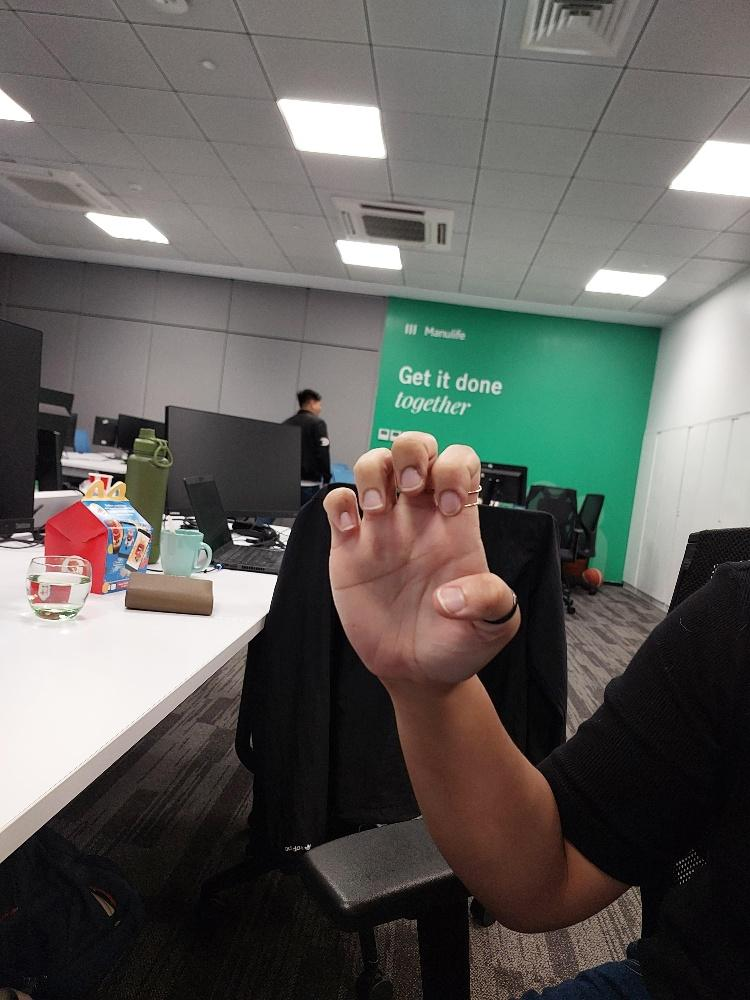e: (320, 429, 524, 695)
